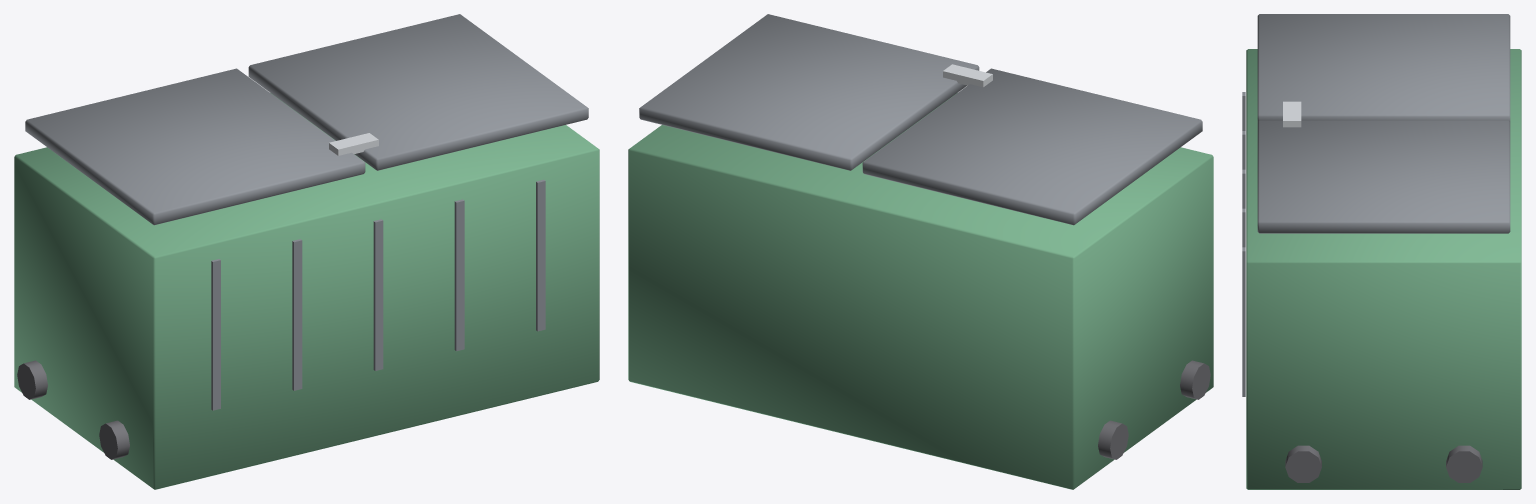
Rendered from Dumpster.fbx.
3 views of the same model, side by side, from view 1: azimuth 30°, elevation 25°; view 2: azimuth 150°, elevation 25°; view 3: azimuth 270°, elevation 25° (orthographic). The views are drawn at different scales.
Visible parts, largest first — view 1: LOD0; view 2: LOD0; view 3: LOD0.
Boxes of the visible parts, x1,y1,x2,y2 form: LOD0: (14,14,599,489); LOD0: (628,14,1213,489); LOD0: (1242,14,1521,489).
Size of what is drawn, in the model's own units: 236 by 131 by 122.
